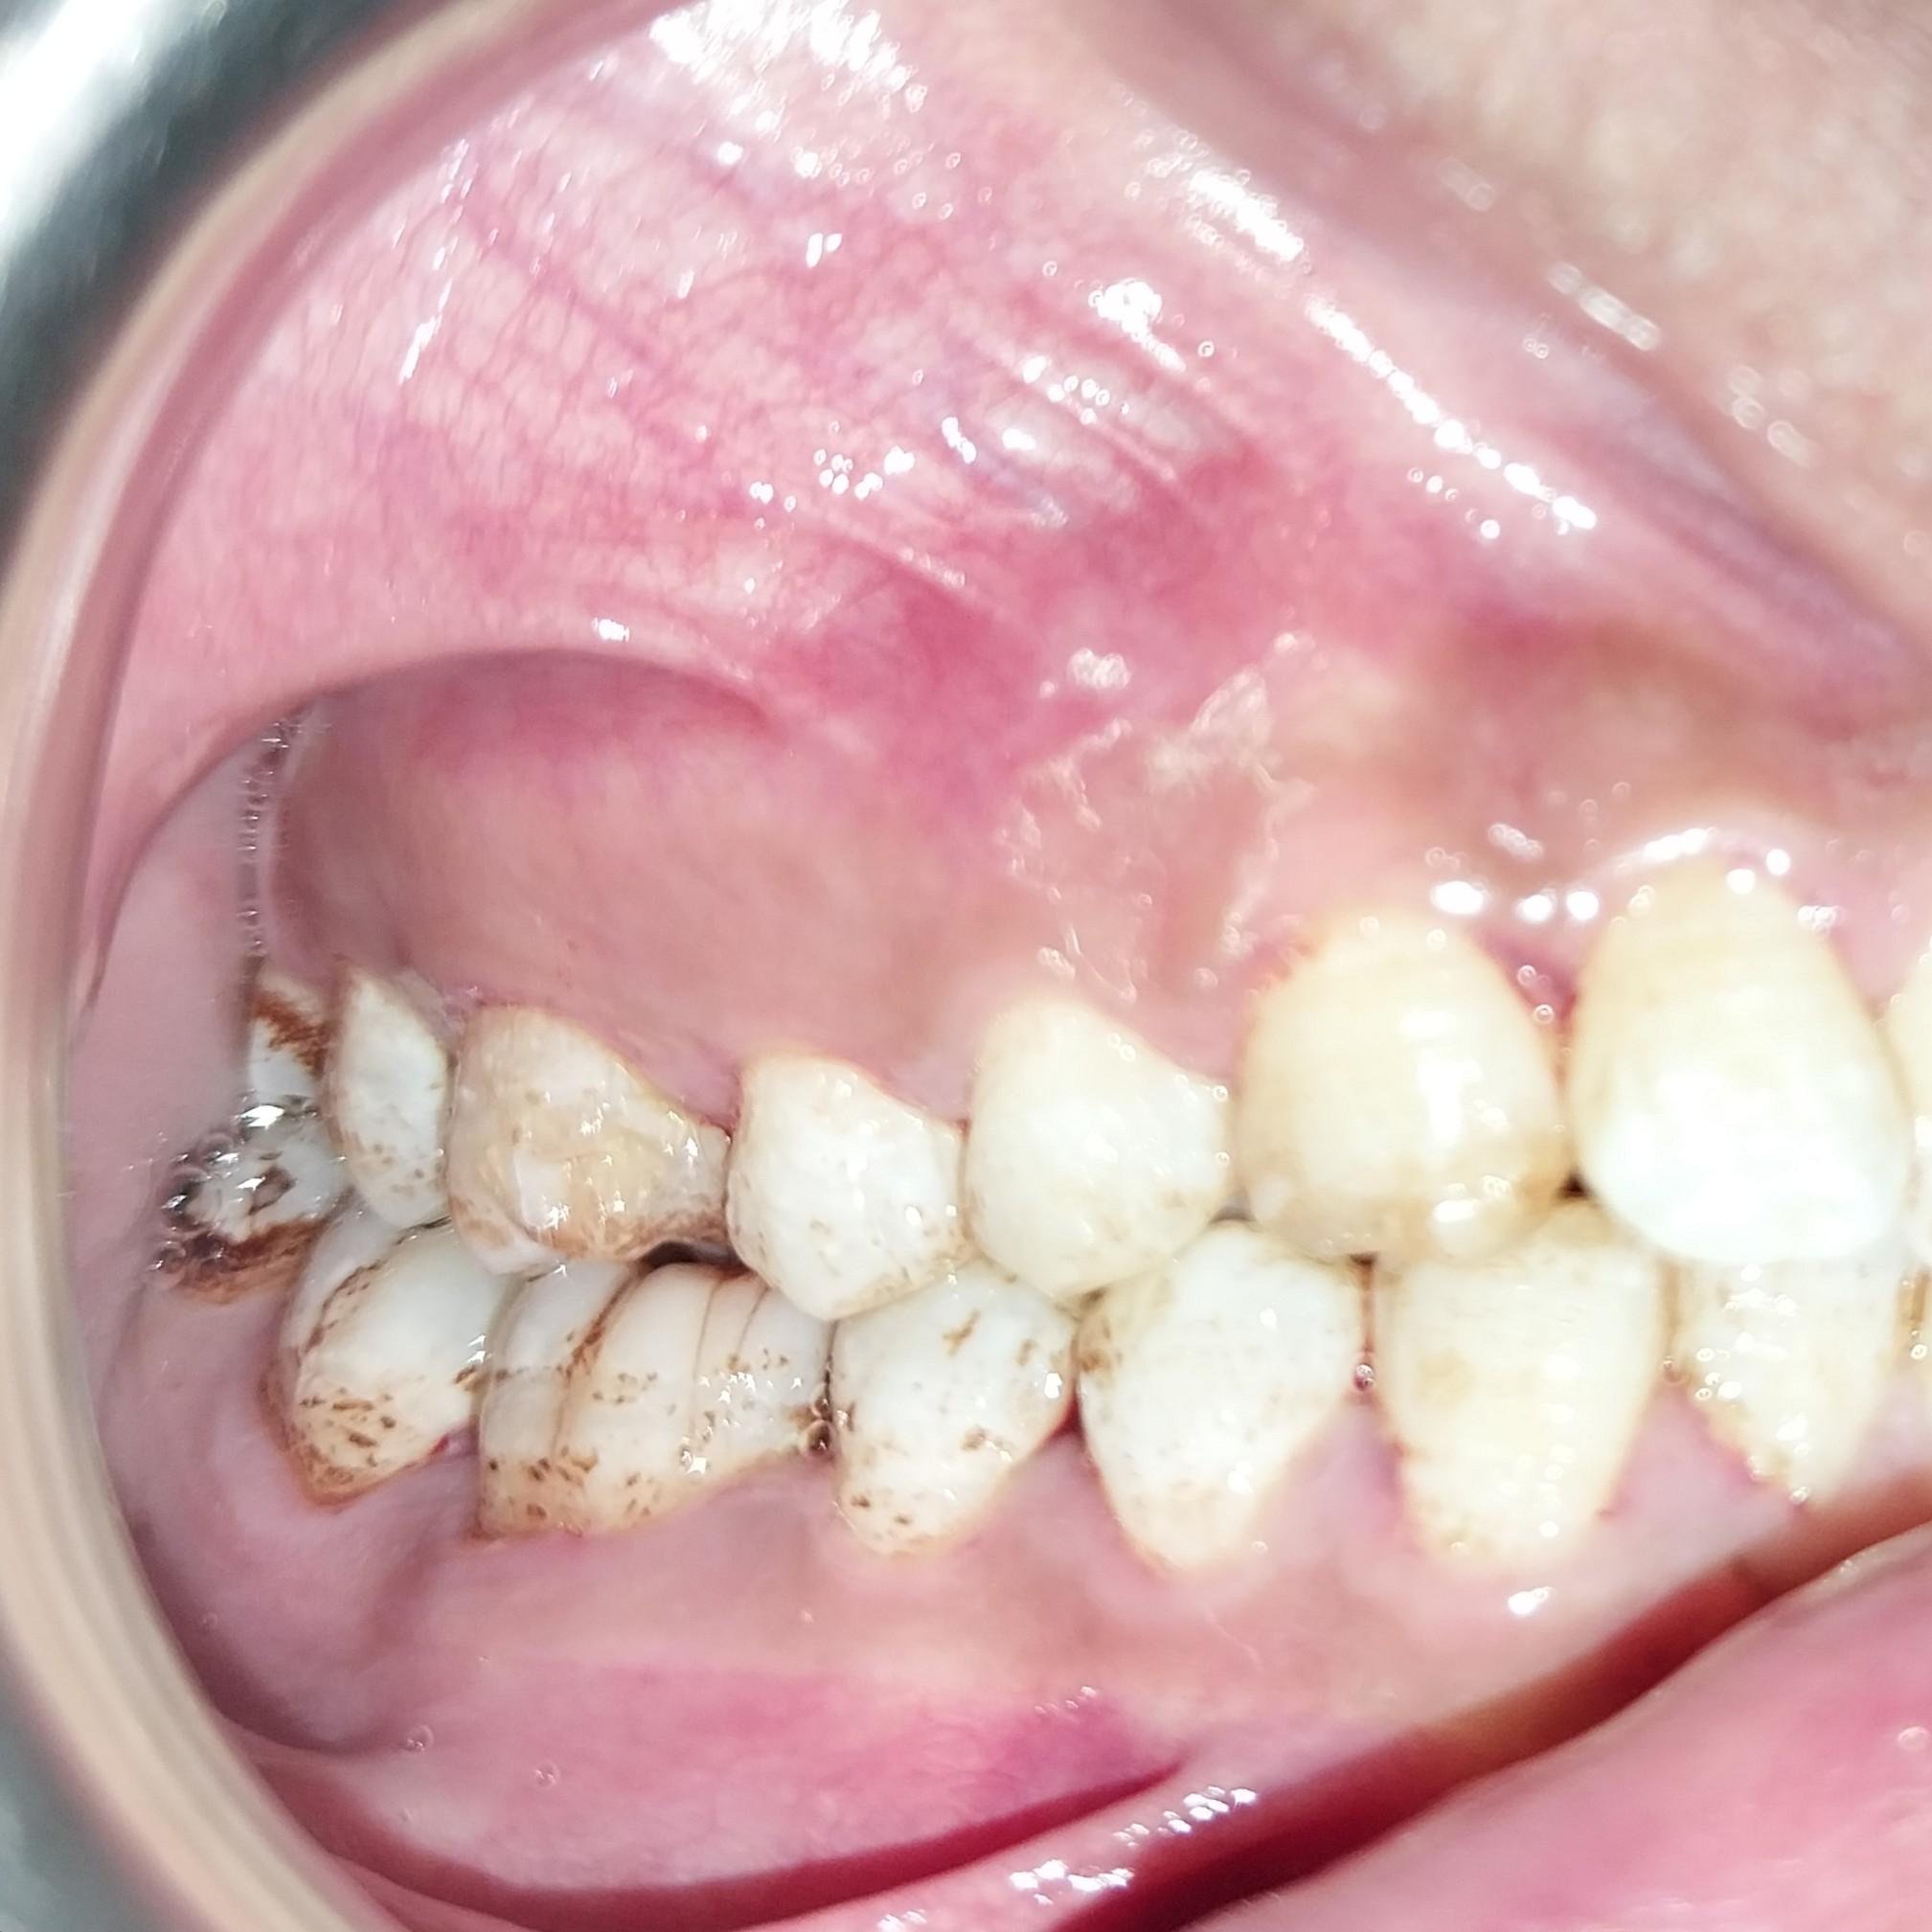D: (194, 1117, 346, 1273)
